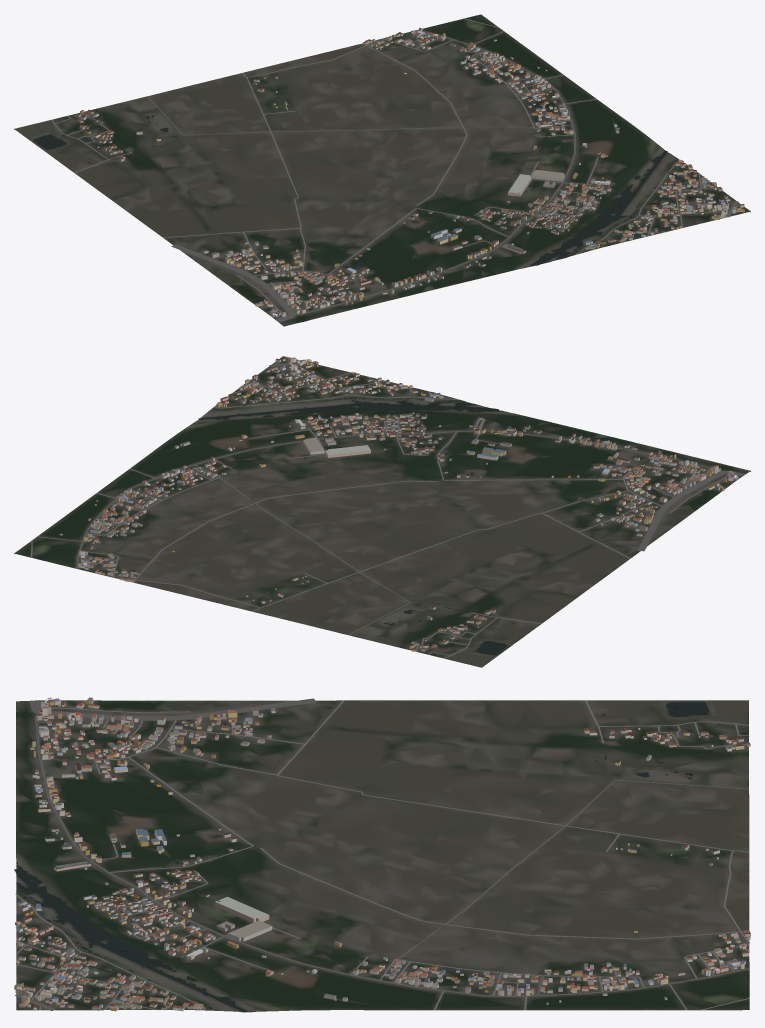
3 views of the same model, one above another, from view 1: azimuth 30°, elevation 25°; view 2: azimuth 150°, elevation 25°; view 3: azimuth 270°, elevation 25° (orthographic). The views are drawn at different scales.
Visible parts, largest first — view 1: ground, buildings, roads, water; view 2: ground, buildings, roads, water; view 3: ground, buildings, roads, water.
Part boxes in pixels (x1,y1,x2,y2): ground: (14,14,750,326); buildings: (76,27,744,317); roads: (51,18,738,322); water: (33,115,675,321); ground: (14,356,750,667); buildings: (59,356,738,651); roads: (31,362,745,658); water: (198,397,733,655); ground: (16,700,749,1012); buildings: (14,697,750,1011); roads: (15,698,749,1010); water: (14,702,709,1012).
Size of the model in its own units: 1418 by 25.76 by 1409.
